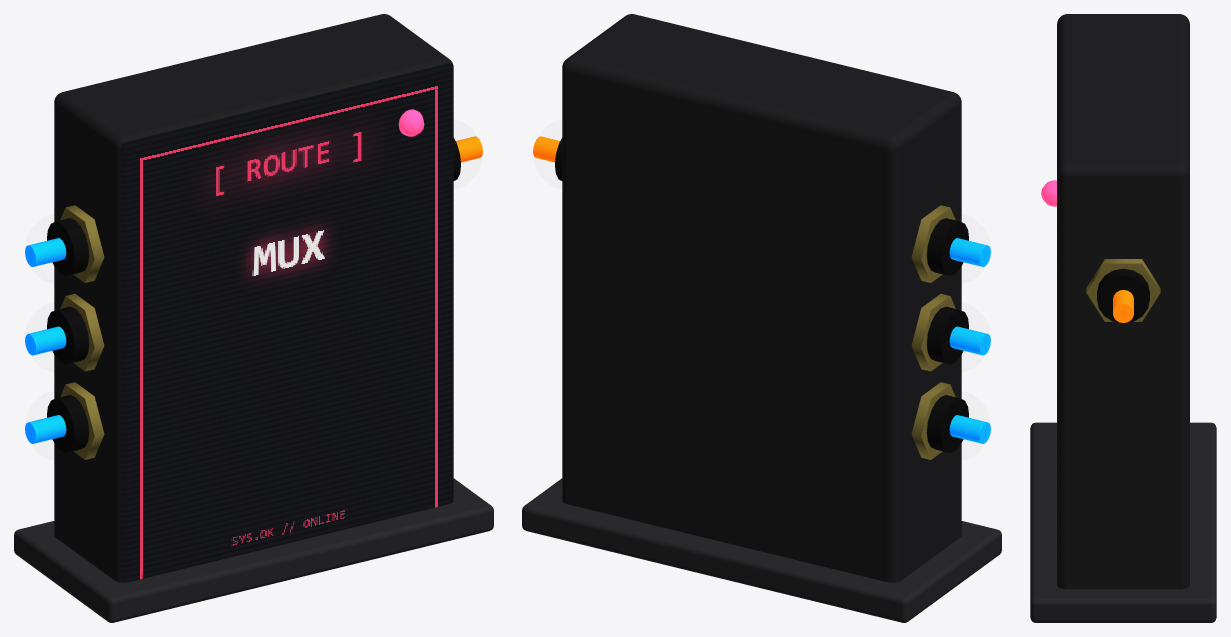
File: route_mux.glb
3 renders of one model, left to right at view 1: azimuth 30°, elevation 25°; view 2: azimuth 150°, elevation 25°; view 3: azimuth 270°, elevation 25°, orthographic. The views are drawn at different scales.
Parts seen in each view (by area): view 1: chassis, bracket, socket (×3), hex_nut (×3), pin (×3); view 2: chassis, bracket, socket (×3), hex_nut (×3), pin (×3); view 3: chassis, bracket, socket, hex_nut, pin, status_led.
Part boxes in pixels (bbox=[...]): chassis: bbox=[54, 14, 453, 582]; bracket: bbox=[14, 478, 493, 622]; socket (×3): bbox=[47, 218, 89, 452]; hex_nut (×3): bbox=[60, 205, 104, 459]; pin (×3): bbox=[25, 238, 66, 443]; chassis: bbox=[562, 14, 961, 582]; bracket: bbox=[522, 478, 1001, 622]; socket (×3): bbox=[926, 218, 968, 452]; hex_nut (×3): bbox=[911, 205, 955, 459]; pin (×3): bbox=[949, 238, 990, 443]; chassis: bbox=[1057, 14, 1189, 589]; bracket: bbox=[1030, 422, 1216, 622]; socket: bbox=[1097, 268, 1149, 323]; hex_nut: bbox=[1086, 259, 1160, 321]; pin: bbox=[1113, 290, 1133, 322]; status_led: bbox=[1041, 180, 1056, 206].
Size of the model in its own units: 1.86 by 1.85 by 0.7.
12 materials, 1 textured.
